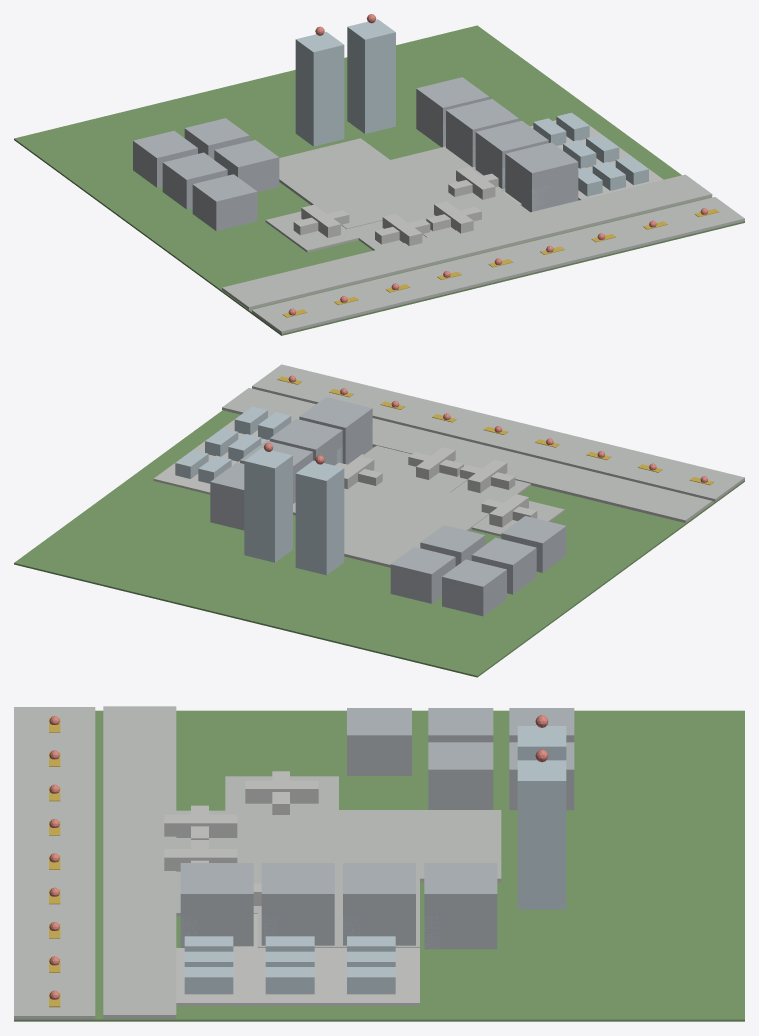
File: stage_25.glb
3 views of the same model, one above another, from view 1: azimuth 30°, elevation 25°; view 2: azimuth 150°, elevation 25°; view 3: azimuth 270°, elevation 25° (orthographic). The views are drawn at different scales.
Visible parts, largest first — view 1: geometry_0; view 2: geometry_0; view 3: geometry_0.
Part boxes in pixels (<box>): geometry_0: <box>14,14,744,335</box>; geometry_0: <box>14,364,744,677</box>; geometry_0: <box>14,706,744,1021</box>.
Bounding box in the file's own units: 9 × 2.06 × 9.
